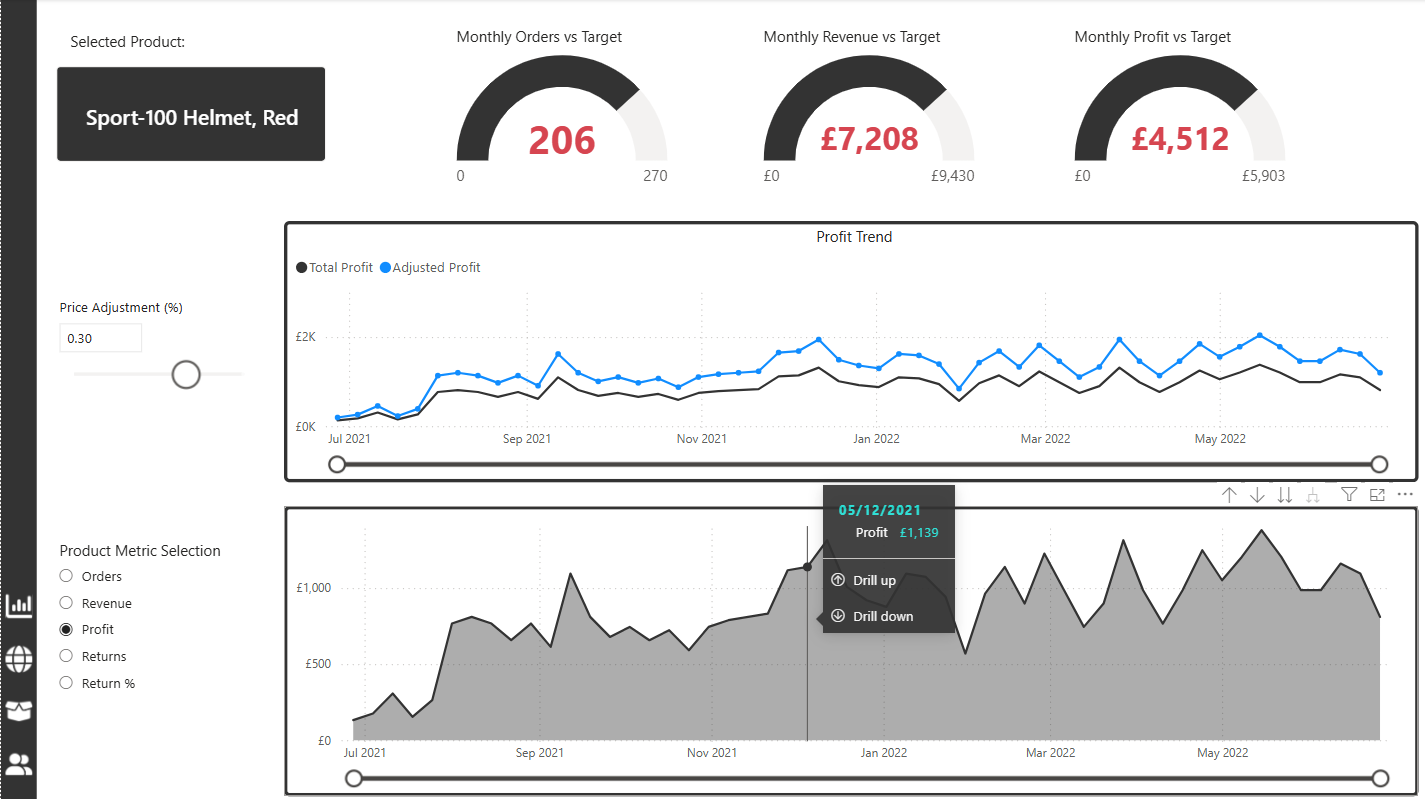

What the dashboard file says about the page in this screenshot:
{"tool":"powerbi","page":{"name":"Product Detail","canvas":[1280,720],"ordinal":2},"visuals":[{"type":"shape","box":[0,0,32.2,720],"z":0},{"type":"actionButton","box":[0,525.7,32.2,35.8],"z":0,"group":"g1"},{"type":"gauge","title":"Monthly Orders vs Target","fields":{"MaxValue":["Measure Table.Order Target"],"Y":["Measure Table.Total Orders"]},"box":[309,24.2,198.8,157.6],"z":1000},{"type":"actionButton","box":[0,572.9,32.2,35.8],"z":1000,"group":"g1"},{"type":"gauge","title":"Monthly Revenue vs Target","fields":{"MaxValue":["Measure Table.Revenue Target"],"Y":["Measure Table.Total Revenue"]},"box":[677.9,24.2,198.8,157.6],"z":2000},{"type":"actionButton","box":[0,620,32.2,35.8],"z":2000,"group":"g1"},{"type":"gauge","title":"Monthly Profit vs Target","fields":{"MaxValue":["Measure Table.Profit Target"],"Y":["Measure Table.Total Profit"]},"box":[1046.9,24.2,198.8,157.6],"z":3000},{"type":"actionButton","box":[0,667.2,32.2,35.8],"z":3000,"group":"g1"},{"type":"lineChart","title":"Profit Trend","fields":{"Category":["Calendar Lookup.Date Hierarchy.Start of Year","Calendar Lookup.Date Hierarchy.Start of Month","Calendar Lookup.Date Hierarchy.Start of Week","Calendar Lookup.Date Hierarchy.Date"],"Y":["Measure Table.Total Profit","Measure Table.Adjusted Profit"]},"box":[258,199,1005.9,275.8],"z":4000},{"type":"areaChart","title":"Returns Trend","fields":{"Category":["Calendar Lookup.Date Hierarchy.Start of Year","Calendar Lookup.Date Hierarchy.Start of Month","Calendar Lookup.Date Hierarchy.Start of Week","Calendar Lookup.Date Hierarchy.Date"],"Y":["Measure Table.Total Revenue"]},"box":[258,506.4,1005.9,214.1],"z":5000},{"type":"cardVisual","fields":{"Data":["Min(Product Lookup.ProductName)"]},"box":[39.4,43,217.6,120],"z":6000},{"type":"textbox","box":[57.3,24.2,234.6,36.7],"z":7000},{"type":"group","id":"g1","title":"Navigation Buttons","box":[0,525.7,32.2,177.3],"z":8000},{"type":"slicer","fields":{"Values":["Price Adjustment (%).Price Adjustment (%)"]},"box":[39.8,262.1,218.2,151],"z":9000},{"type":"slicer","fields":{"Values":["Product Metric Selection.Product Metric Selection"]},"box":[39.8,506.4,218.2,211.3],"z":10000}]}

Visuals, with their boxes on the page's 1280x720 design canvas (x1, y1, x2, y2). These are canvas units, not pixel positions in the 1425x799 screenshot, which may show the page scaled, cropped or inside an application window:
shape: pyautogui.locateOnScreen(0, 0, 32, 720)
actionButton: pyautogui.locateOnScreen(0, 526, 32, 562)
"Monthly Orders vs Target" gauge: pyautogui.locateOnScreen(309, 24, 508, 182)
actionButton: pyautogui.locateOnScreen(0, 573, 32, 609)
"Monthly Revenue vs Target" gauge: pyautogui.locateOnScreen(678, 24, 877, 182)
actionButton: pyautogui.locateOnScreen(0, 620, 32, 656)
"Monthly Profit vs Target" gauge: pyautogui.locateOnScreen(1047, 24, 1246, 182)
actionButton: pyautogui.locateOnScreen(0, 667, 32, 703)
"Profit Trend" lineChart: pyautogui.locateOnScreen(258, 199, 1264, 475)
"Returns Trend" areaChart: pyautogui.locateOnScreen(258, 506, 1264, 720)
cardVisual - Min(Product Lookup.ProductName): pyautogui.locateOnScreen(39, 43, 257, 163)
textbox: pyautogui.locateOnScreen(57, 24, 292, 61)
"Navigation Buttons" group: pyautogui.locateOnScreen(0, 526, 32, 703)
slicer - Price Adjustment (%).Price Adjustment (%): pyautogui.locateOnScreen(40, 262, 258, 413)
slicer - Product Metric Selection.Product Metric Selection: pyautogui.locateOnScreen(40, 506, 258, 718)
